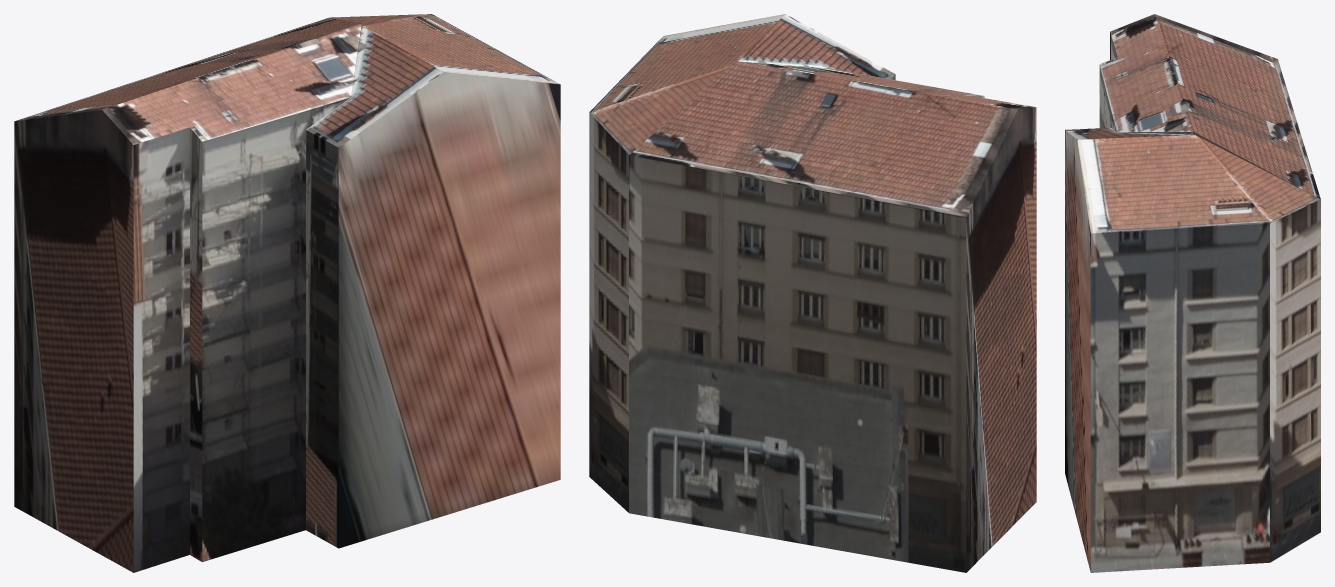
3 views of the same model, side by side, from view 1: azimuth 30°, elevation 25°; view 2: azimuth 150°, elevation 25°; view 3: azimuth 270°, elevation 25° (orthographic). The views are drawn at different scales.
Parts seen in each view (by area): view 1: Z_UP; view 2: Z_UP; view 3: Z_UP.
Boxes of the visible parts, x1,y1,x2,y2 form: Z_UP: (14,14,560,572); Z_UP: (589,14,1036,572); Z_UP: (1065,14,1320,572).
Bounding box in the file's own units: 23.71 × 23.1 × 13.99.
2 materials, 1 textured.
